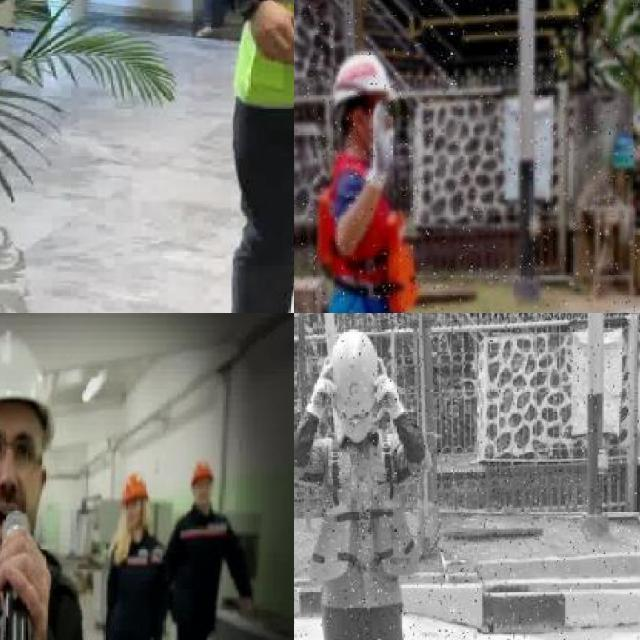apron: (364, 98, 397, 196), (304, 352, 338, 426), (372, 352, 406, 425)
